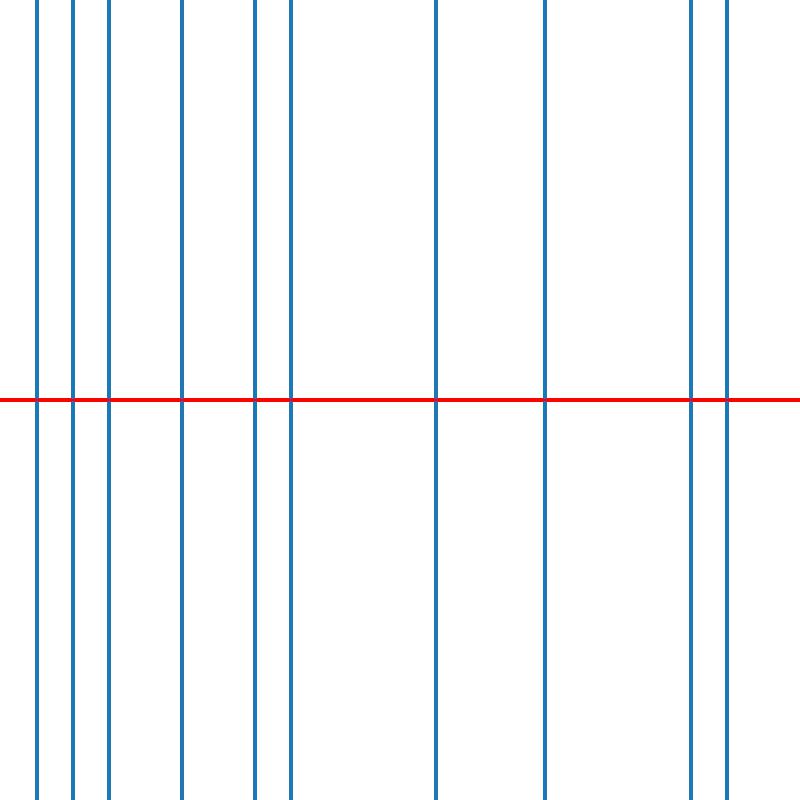root: (541, 396, 549, 404), (432, 396, 440, 404), (250, 396, 258, 404), (32, 396, 40, 404), (723, 396, 730, 404), (69, 396, 76, 404), (687, 396, 694, 404), (105, 396, 112, 404), (287, 396, 294, 404), (178, 396, 185, 404)
